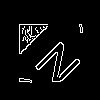N: (33, 33, 90, 91)
